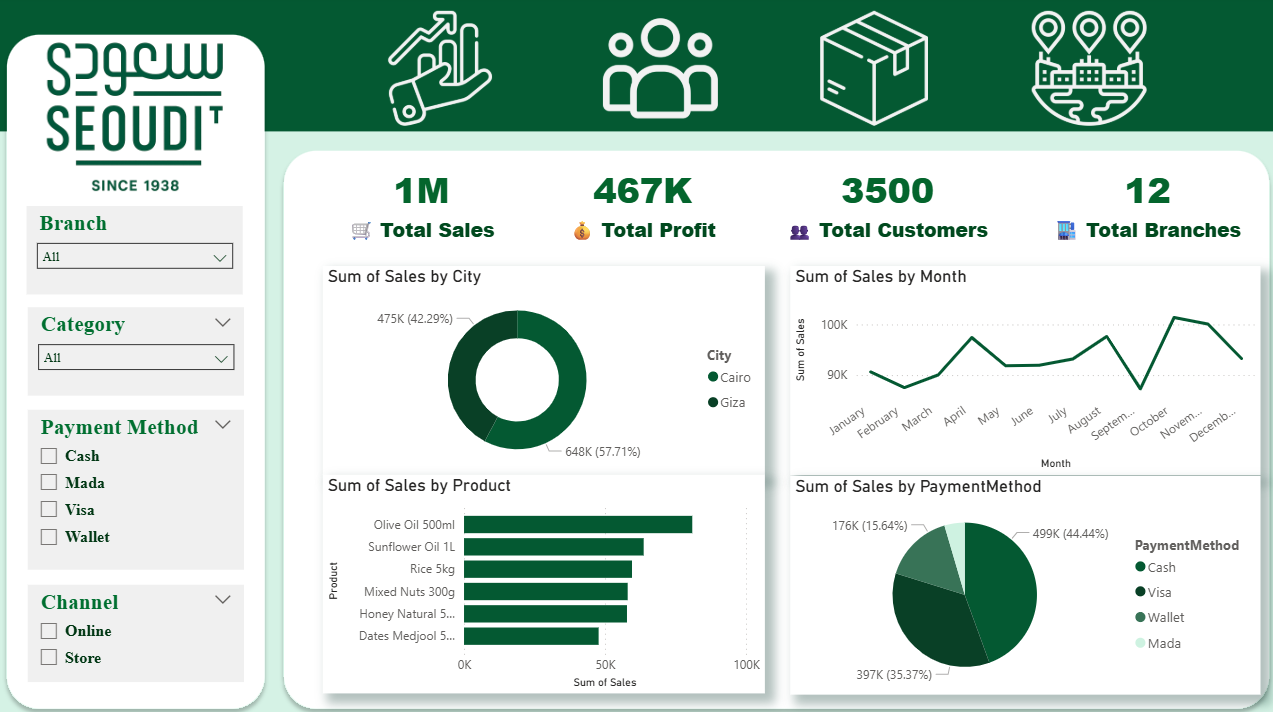

What the dashboard file says about the page in this screenshot:
{"tool":"powerbi","page":{"name":"Sales Overview","canvas":[1280,720],"ordinal":1},"visuals":[{"type":"image","box":[32.3,2.5,251.3,250],"z":0},{"type":"image","box":[385.6,10,126.9,124.4],"z":1000},{"type":"image","box":[599.2,10,126.9,124.4],"z":2000},{"type":"image","box":[812.7,10,126.9,124.4],"z":3000},{"type":"image","box":[1026.3,10,126.9,124.4],"z":4000},{"type":"card","fields":{"Values":["Sum(Orders.Sales)"]},"box":[303.5,159.2,243.8,93.3],"z":5000},{"type":"card","fields":{"Values":["Sum(Orders.Profit)"]},"box":[523.7,159.2,243.8,93.3],"z":6000},{"type":"card","fields":{"Values":["Customers.Total Customers"]},"box":[767.5,159.2,243.8,93.3],"z":7000},{"type":"card","fields":{"Values":["Count(Branches.BranchID)"]},"box":[1026.3,159.2,243.8,93.3],"z":8000},{"type":"lineChart","fields":{"Category":["Orders.OrderDate.Variation.Date Hierarchy.Month"],"Y":["Sum(Orders.Sales)"]},"box":[812.3,268.7,467.7,207.7],"z":9000},{"type":"pieChart","fields":{"Category":["Orders.PaymentMethod"],"Y":["Sum(Orders.Sales)"]},"box":[812.3,476.4,467.7,217.7],"z":10000},{"type":"donutChart","fields":{"Category":["Orders.City"],"Y":["Sum(Orders.Sales)"]},"box":[327.2,268.7,440.4,207.7],"z":11000},{"type":"barChart","fields":{"Y":["Sum(Orders.Sales)"],"Category":["Products.Product"]},"box":[327.2,476.4,440.4,217.7],"z":12000},{"type":"slicer","fields":{"Values":["Orders.Branch"]},"box":[42.3,206.5,241.3,88.3],"z":13000},{"type":"slicer","fields":{"Values":["Orders.Channel"]},"box":[42.3,585.9,241.3,97],"z":14000},{"type":"slicer","fields":{"Values":["Products.Category"]},"box":[42.3,309.3,241.3,88.3],"z":15000},{"type":"slicer","fields":{"Values":["Orders.PaymentMethod"]},"box":[42.3,412.2,241.3,159.2],"z":16000}]}

Visuals, with their boxes in screenshot pixels (x1, y1, x2, y2), scaled from the page's 1280x720 canvas onto the 1273x712 screenshot:
image: <region>32, 2, 282, 250</region>
image: <region>383, 10, 510, 133</region>
image: <region>596, 10, 722, 133</region>
image: <region>808, 10, 934, 133</region>
image: <region>1021, 10, 1147, 133</region>
card - Sum(Orders.Sales): <region>302, 157, 544, 250</region>
card - Sum(Orders.Profit): <region>521, 157, 763, 250</region>
card - Customers.Total Customers: <region>763, 157, 1006, 250</region>
card - Count(Branches.BranchID): <region>1021, 157, 1263, 250</region>
lineChart - Orders.OrderDate.Variation.Date Hierarchy.Month x Sum(Orders.Sales): <region>808, 266, 1272, 471</region>
pieChart - Orders.PaymentMethod x Sum(Orders.Sales): <region>808, 471, 1272, 686</region>
donutChart - Orders.City x Sum(Orders.Sales): <region>325, 266, 763, 471</region>
barChart - Sum(Orders.Sales) x Products.Product: <region>325, 471, 763, 686</region>
slicer - Orders.Branch: <region>42, 204, 282, 292</region>
slicer - Orders.Channel: <region>42, 579, 282, 675</region>
slicer - Products.Category: <region>42, 306, 282, 393</region>
slicer - Orders.PaymentMethod: <region>42, 408, 282, 565</region>
